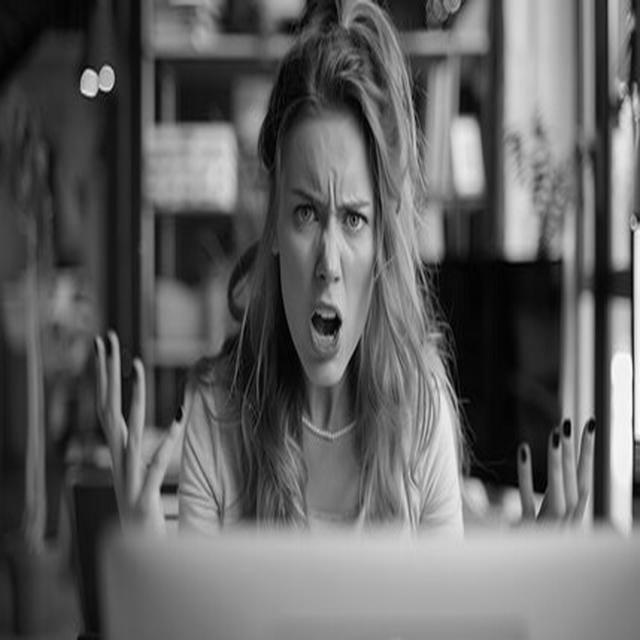Angry: (276, 120, 376, 385)
